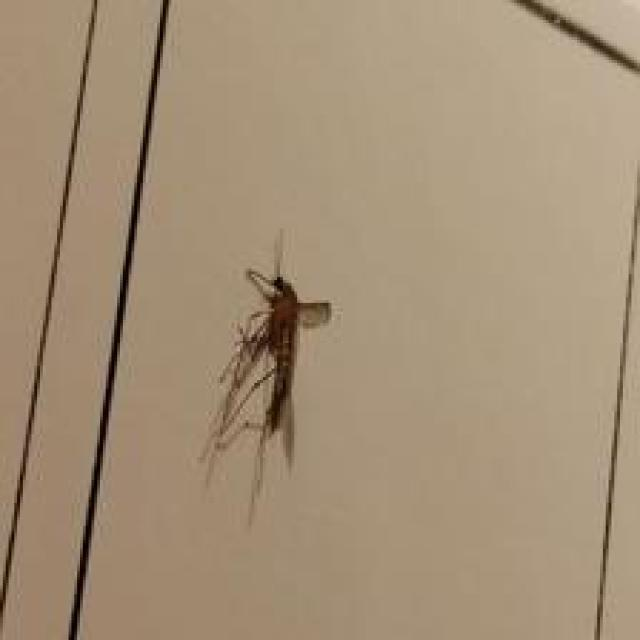Culex: (196, 227, 333, 527)
